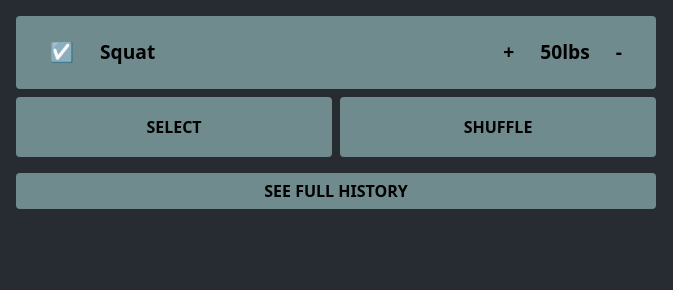
Test: Should Add completed exercises to history
This screenshot has width=673, height=290.
What coordinates should you click on to do the following:
click the button with test id "complete-set"
I would click on:
 (62, 53)
Its box is [32, 32, 92, 73].
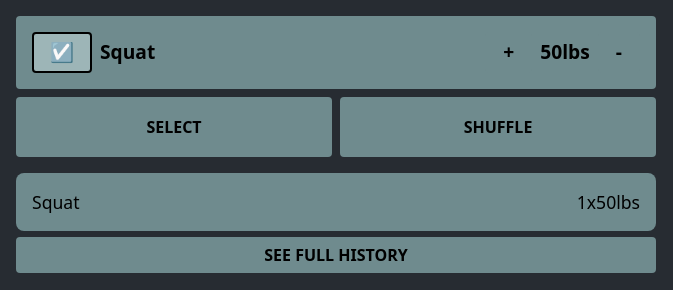
What coordinates should you click on to do the following:
click the button with test id "complete-set"
I would click on:
 (62, 53)
Its box is [32, 32, 92, 73].
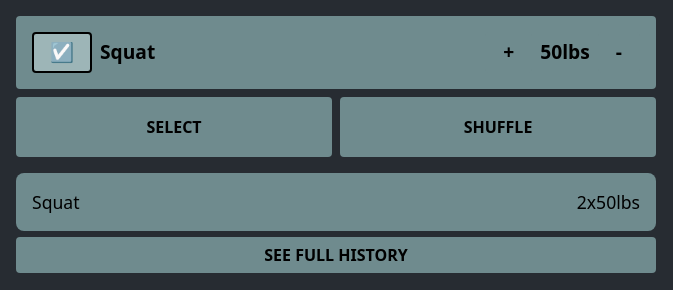
Result: the number of list items is more than 0 at [16, 173, 656, 231]
Result: the number of list items with test id "history-item" is 1 at [16, 173, 656, 231]
Result: the list item with test id "history-item" shows "2x50lbs" at [16, 173, 656, 231]
